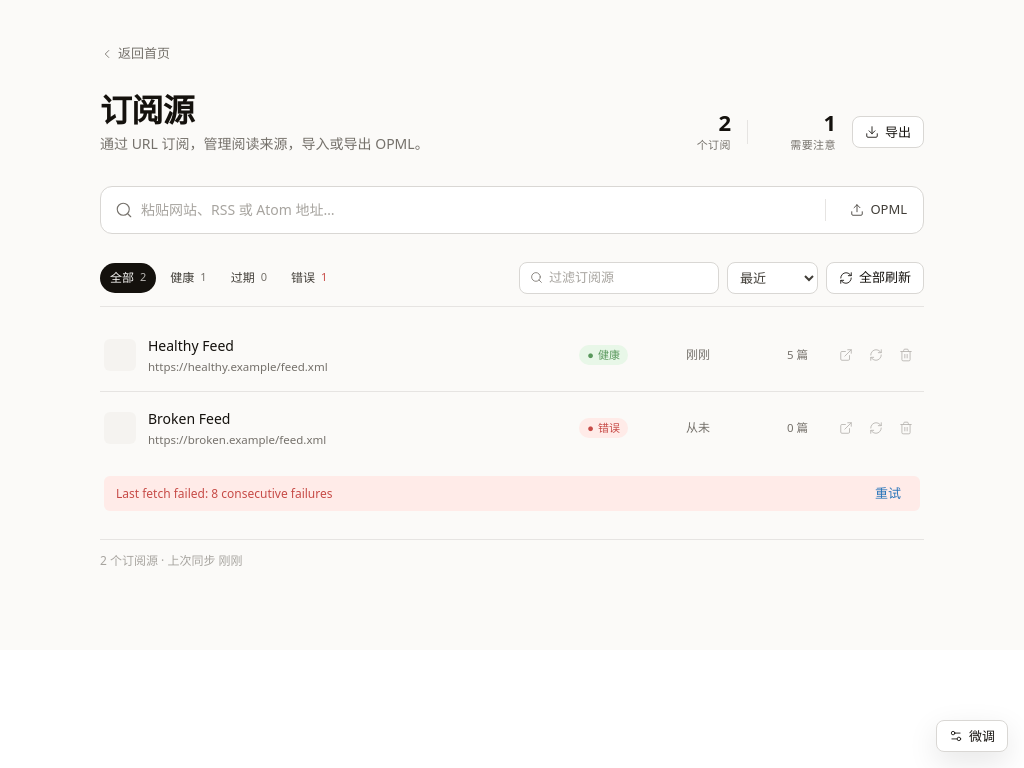
Scenario: SourcesPage filters, searches, and sorts populated sources
Check: the button "全部 2" is shown, box [100, 263, 156, 293]
Check: the button "健康 1" is shown, box [160, 263, 217, 293]
Click the button "错误 1" at [309, 278], box [281, 263, 337, 293]
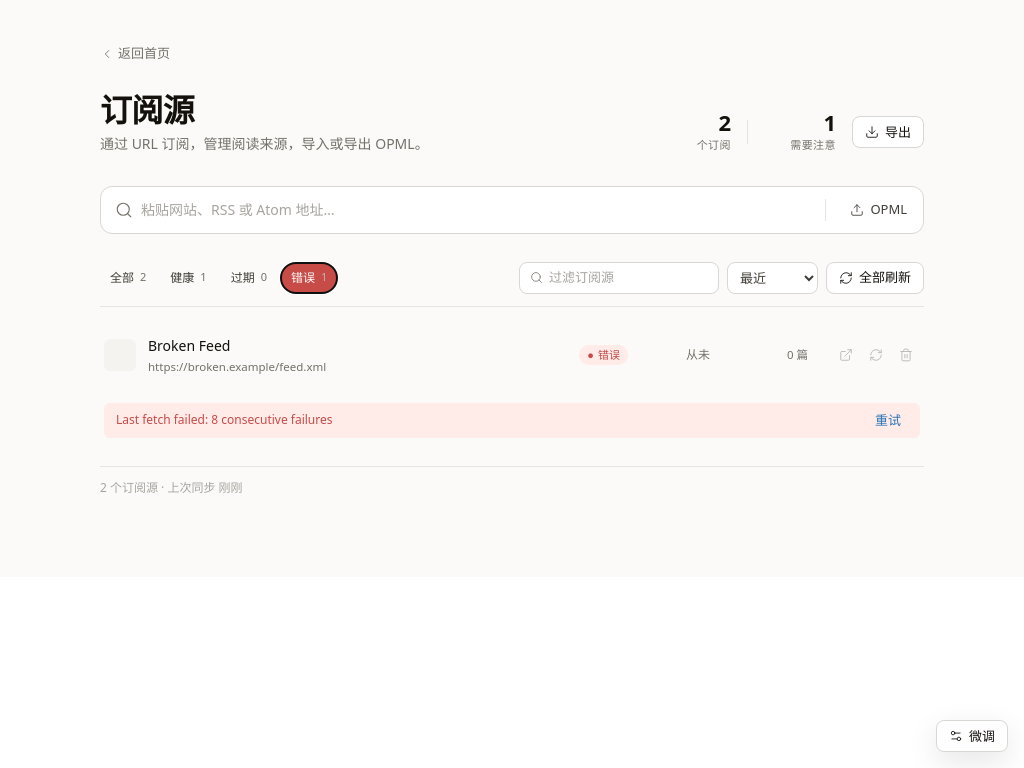
Check: the text "Broken Feed" is shown, box [148, 336, 230, 355]
Check: the text "Healthy Feed" is gone
Type "healthy" into the field with placeholder "过滤订阅源" at [628, 278], box [549, 268, 708, 287]
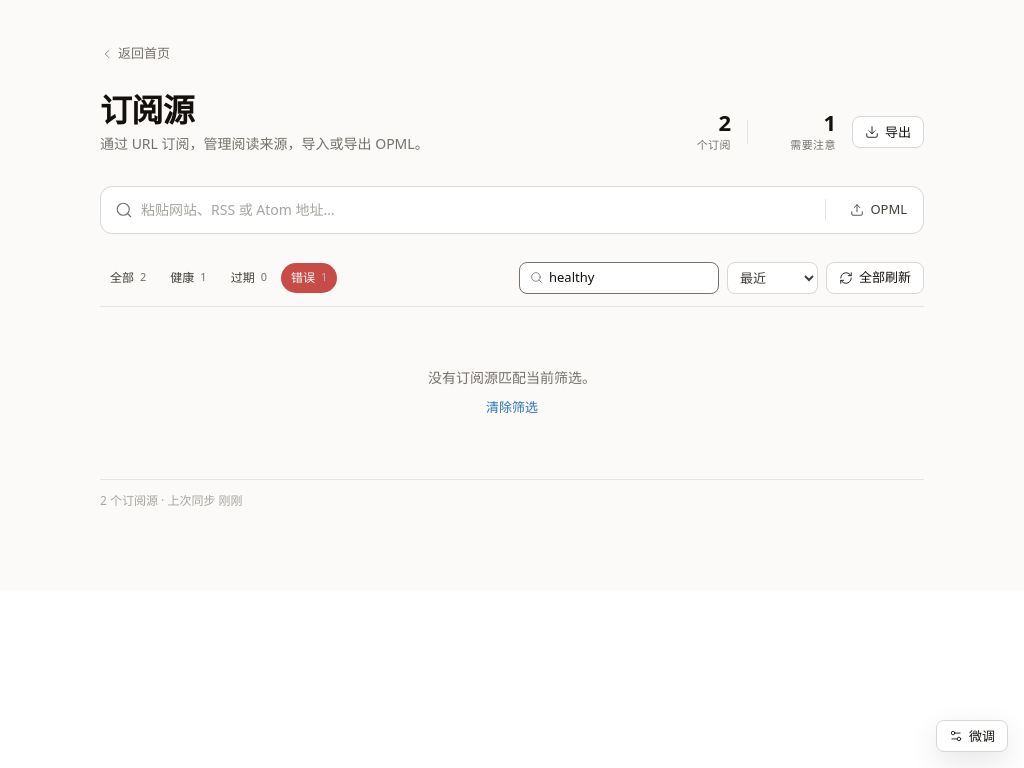
Check: the text "没有订阅源匹配当前筛选。" is shown, box [428, 368, 596, 387]
